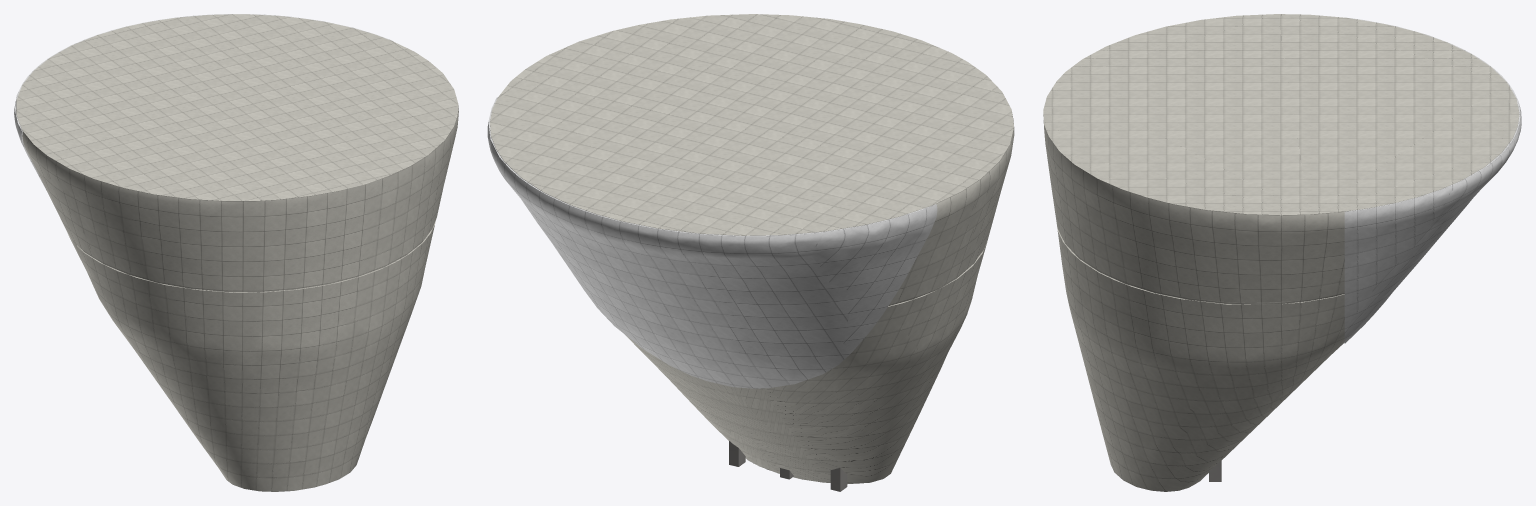
File: ax_aero_16_fstc_tail_cone_mk3.glb
3 renders of one model, left to right at view 1: azimuth 30°, elevation 25°; view 2: azimuth 150°, elevation 25°; view 3: azimuth 270°, elevation 25°, orthographic. The views are drawn at different scales.
Visible parts, largest first — view 1: tail_cone, belly_tiles; view 2: tail_cone, belly_tiles, bodyflap_hinge_mount; view 3: tail_cone, belly_tiles.
Boxes of the visible parts, x1=… form: tail_cone: x1=16, y1=14, x2=458, y2=491; belly_tiles: x1=14, y1=14, x2=392, y2=189; tail_cone: x1=490, y1=14, x2=1014, y2=483; belly_tiles: x1=487, y1=97, x2=937, y2=388; bodyflap_hinge_mount: x1=729, y1=441, x2=847, y2=491; tail_cone: x1=1043, y1=14, x2=1519, y2=491; belly_tiles: x1=1344, y1=17, x2=1521, y2=343.
Bounding box in the file's own units: 3.76 × 3 × 3.77.
3 materials, 3 textured.
